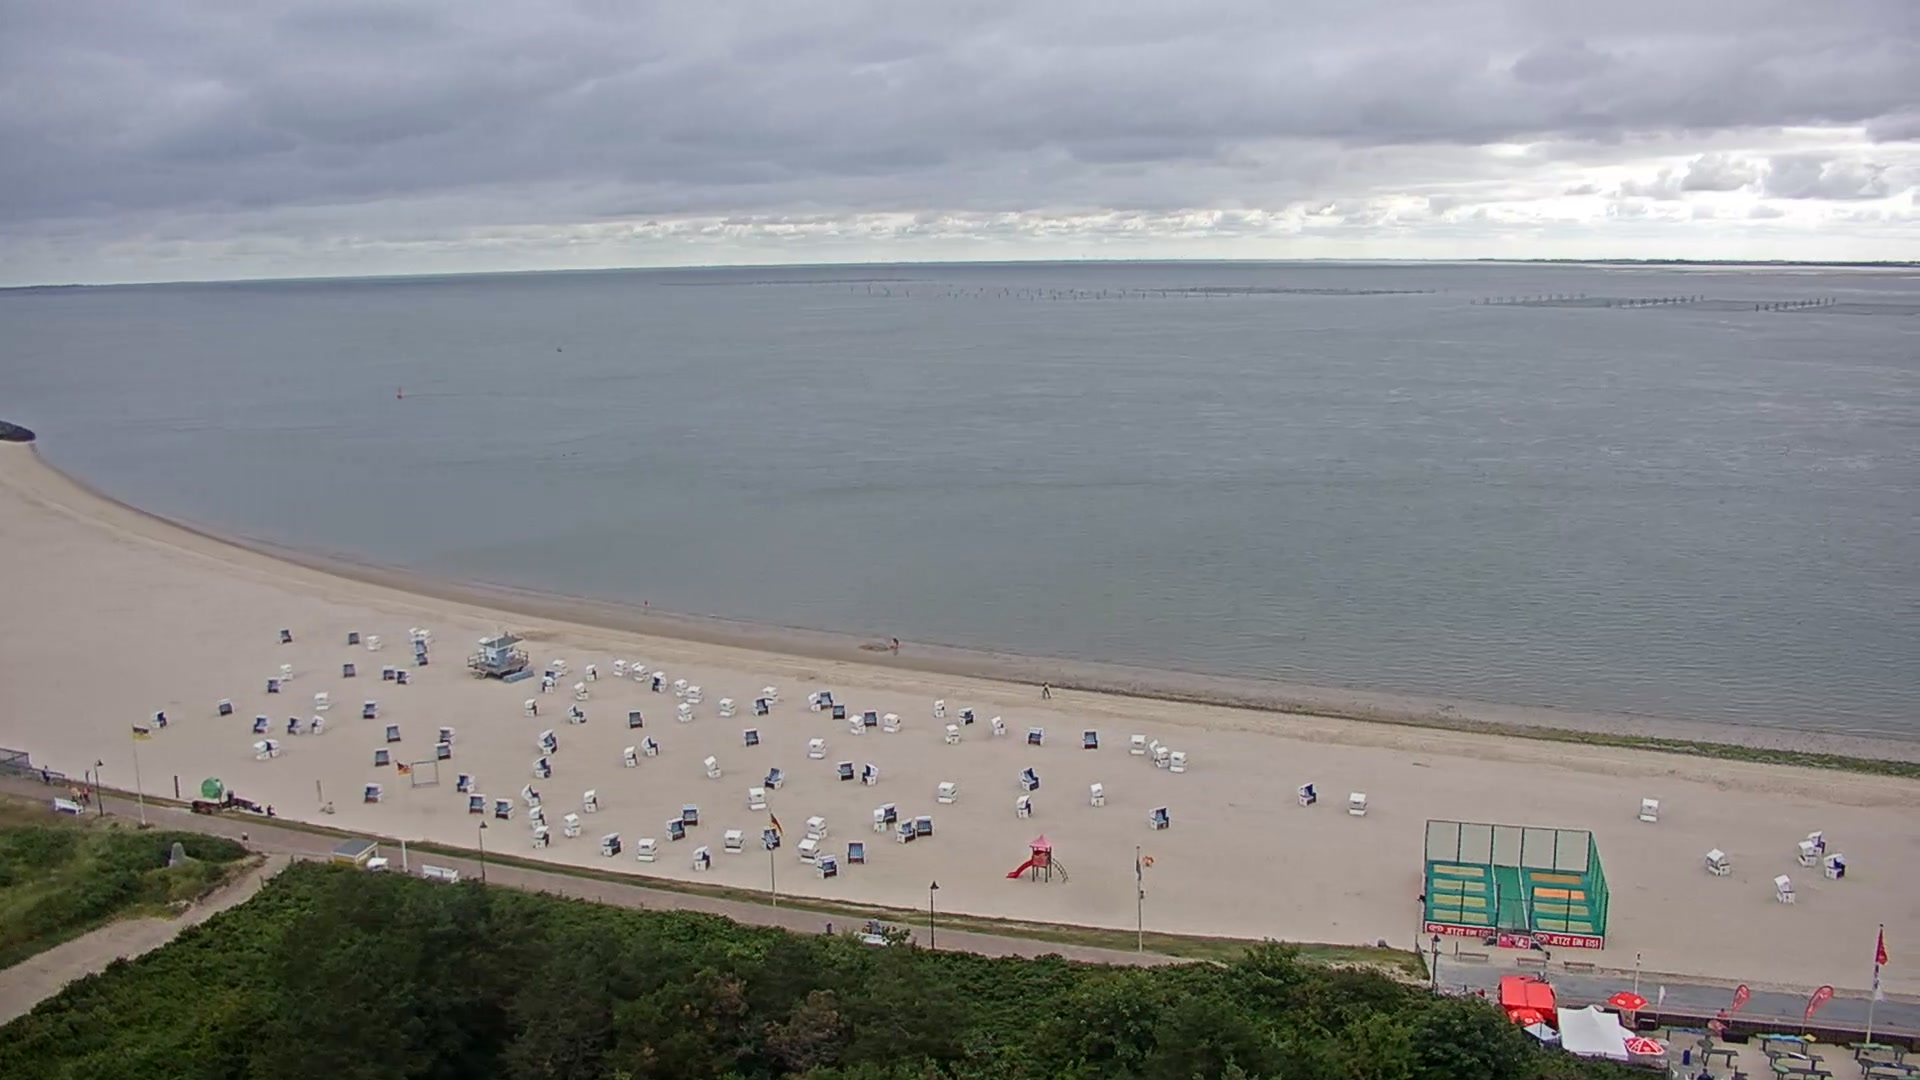human: (1042, 681, 1051, 699), (69, 785, 78, 802), (42, 764, 50, 783), (871, 915, 879, 933), (82, 786, 90, 803), (267, 804, 276, 817), (1716, 1006, 1728, 1016), (76, 787, 82, 803)
